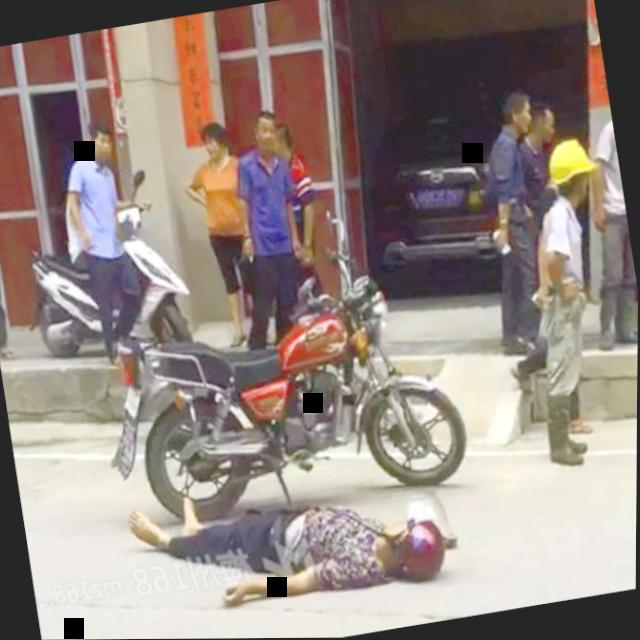Fall-Detected: (112, 436, 474, 636)
